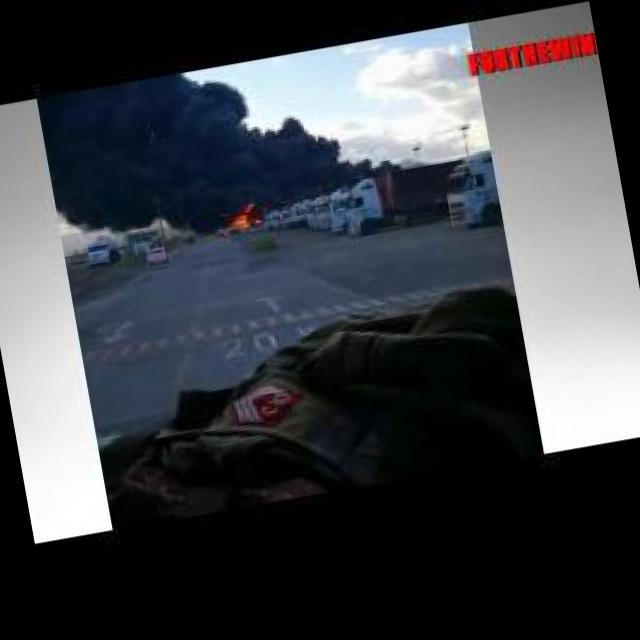fire: (227, 205, 259, 232)
smoke: (36, 48, 360, 245)
